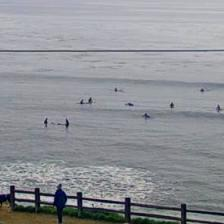surfer: (124, 102, 134, 106), (65, 118, 69, 127), (143, 113, 150, 118), (216, 104, 221, 111), (44, 118, 48, 125), (88, 96, 92, 102), (170, 102, 174, 108), (199, 88, 205, 92), (80, 99, 84, 104), (114, 87, 118, 92)
